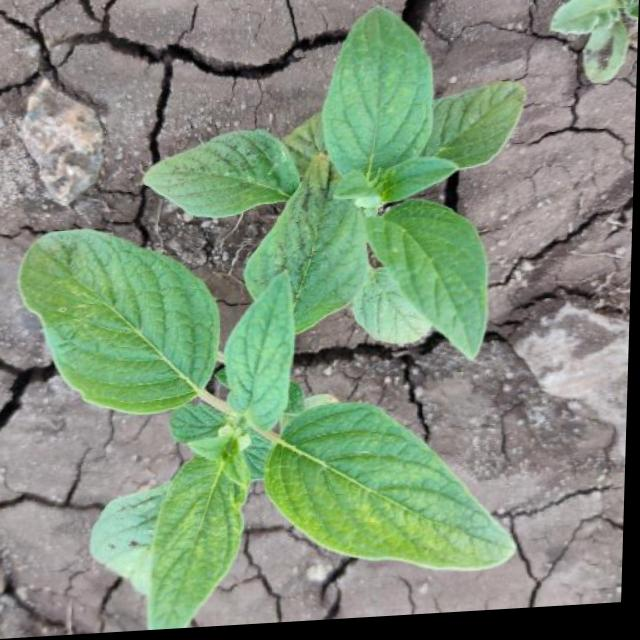crop: (11, 211, 533, 639), (121, 9, 534, 390)
